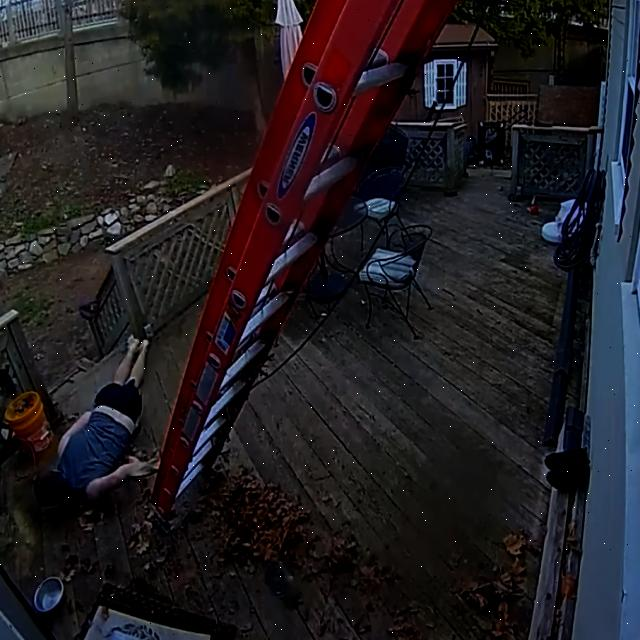fallen: (35, 339, 149, 505)
